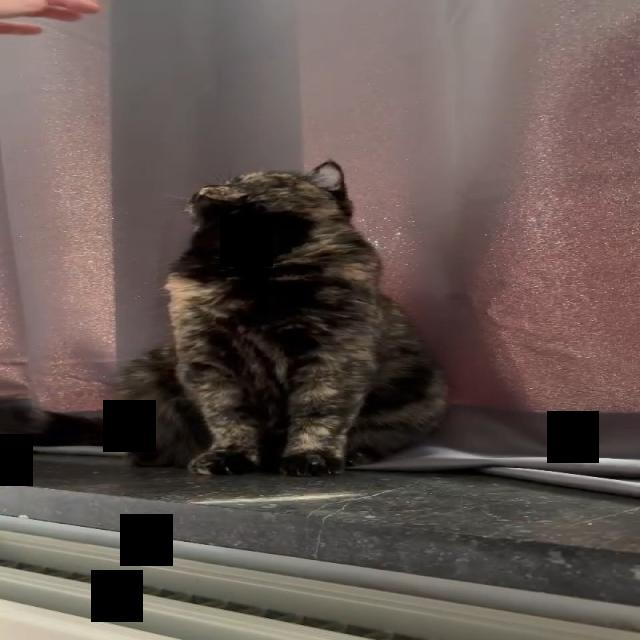authorized: (110, 158, 450, 477)
